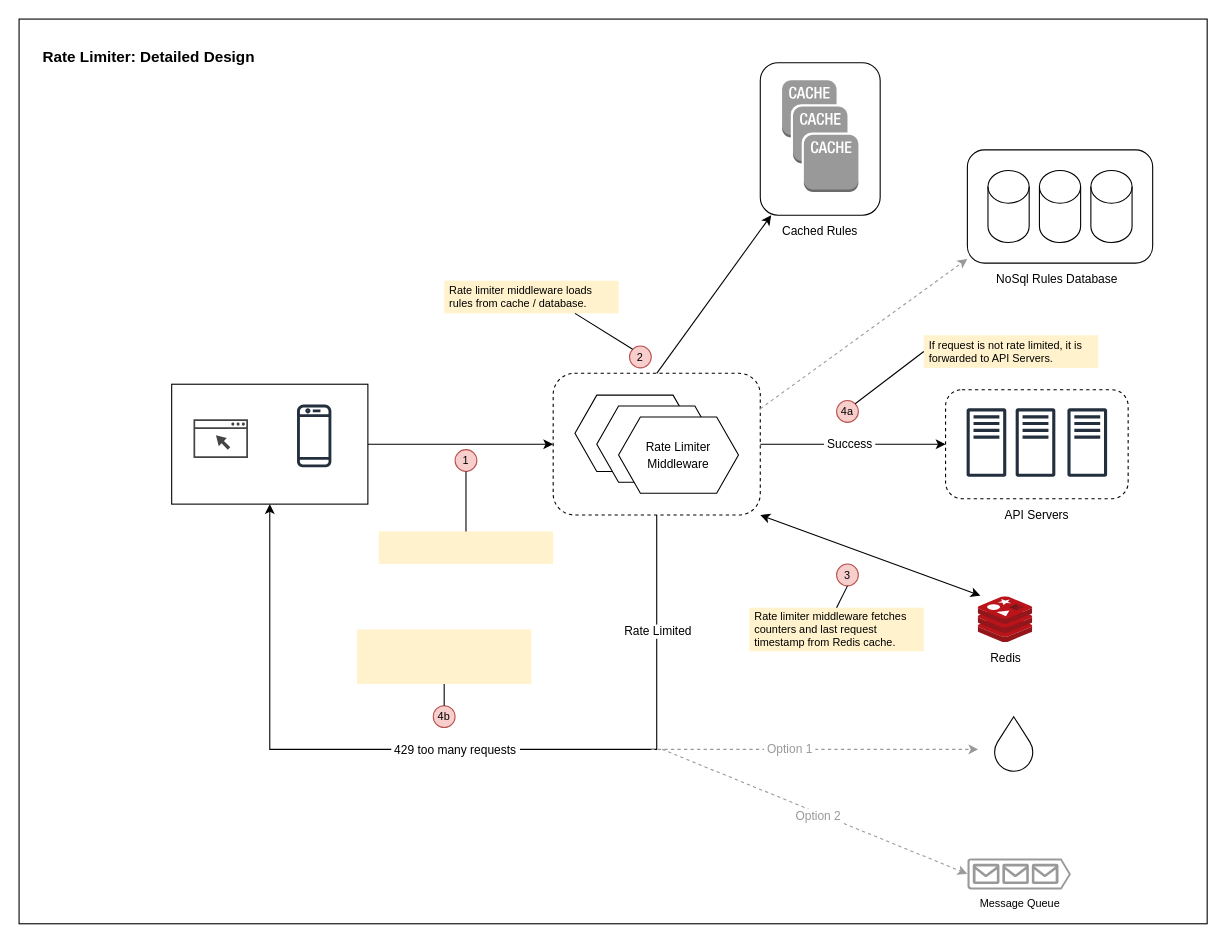
Image size: 1226x943. Some labels were removed from this diagram. Each missing label, with the centre of its shape:
"Browser" goes at point 220,438.
"Client sends a request to rate limiting middleware." goes at point 465,547.
"If request is rate limited, 429 Too Many Requests error is returned to client." goes at point 443,656.
"Mobile" goes at point 313,435.
"Request Dropped" goes at point 1013,743.
